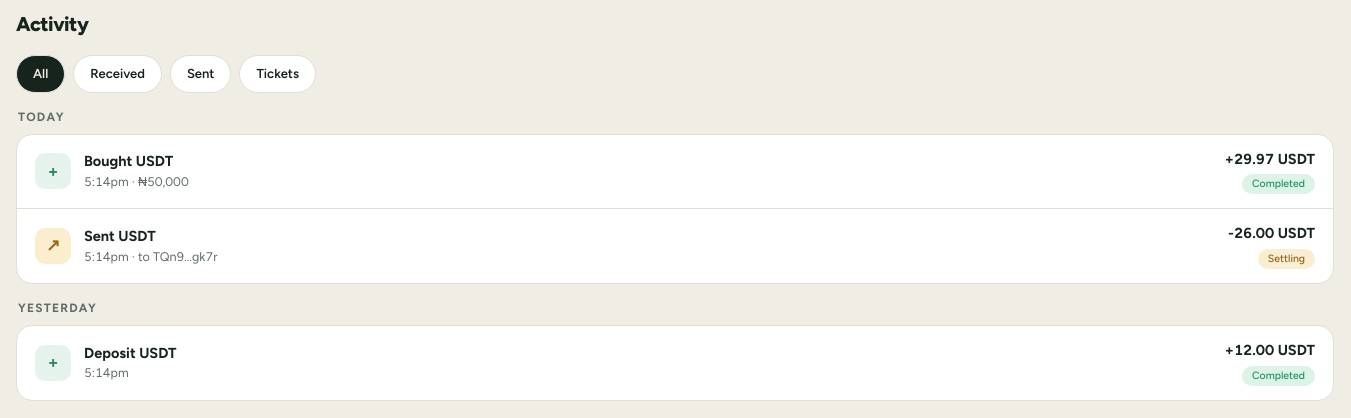
Test: ActivityPage › filters to only incoming items when 'Received' is clicked
The image size is (1351, 418).
Expected: the text "Bought USDT" is shown, x1=84 y1=152 x2=173 y2=170
Expected: the text "Sent USDT" is shown, x1=84 y1=227 x2=156 y2=245
# Click Received filter — exact name avoids matching row aria-labels
Click the button "Received" at (118, 74), box x1=73 y1=55 x2=162 y2=92
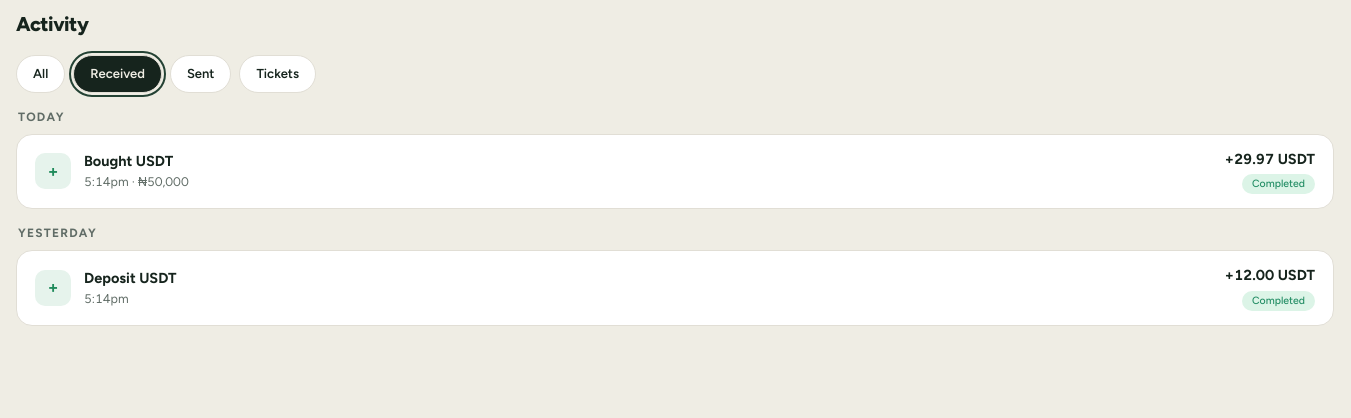
Expected: the text "Bought USDT" is shown, x1=84 y1=152 x2=173 y2=170
Now the button "Sent USDT" is gone
